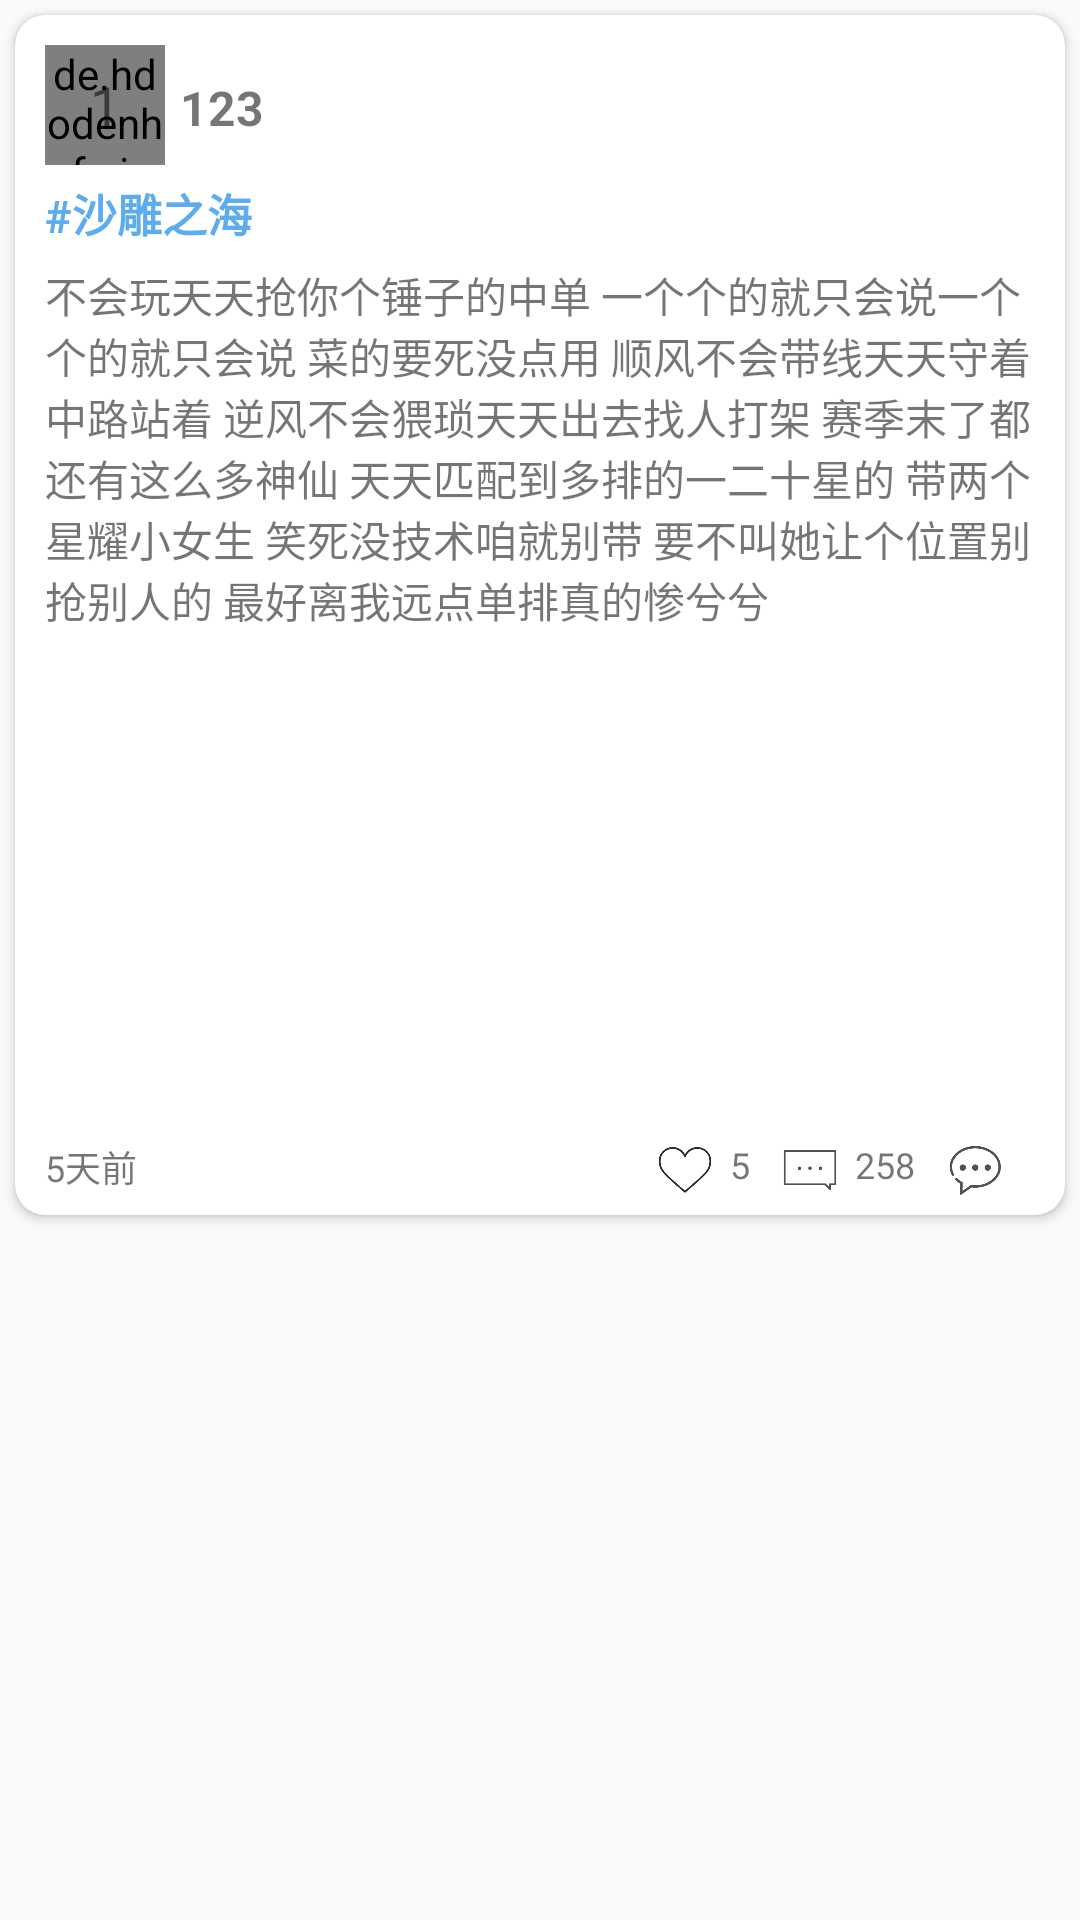

Named icons in this screenshot (1080px×1920px) and their centers, point (x, y):
love: point (685, 1170)
xinxi: point (975, 1170)
